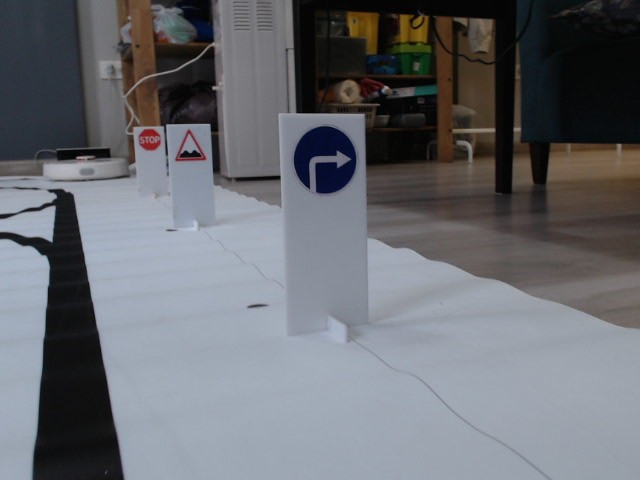Nerov: (176, 129, 206, 162)
Right: (292, 124, 358, 197)
Stop: (137, 129, 161, 151)
